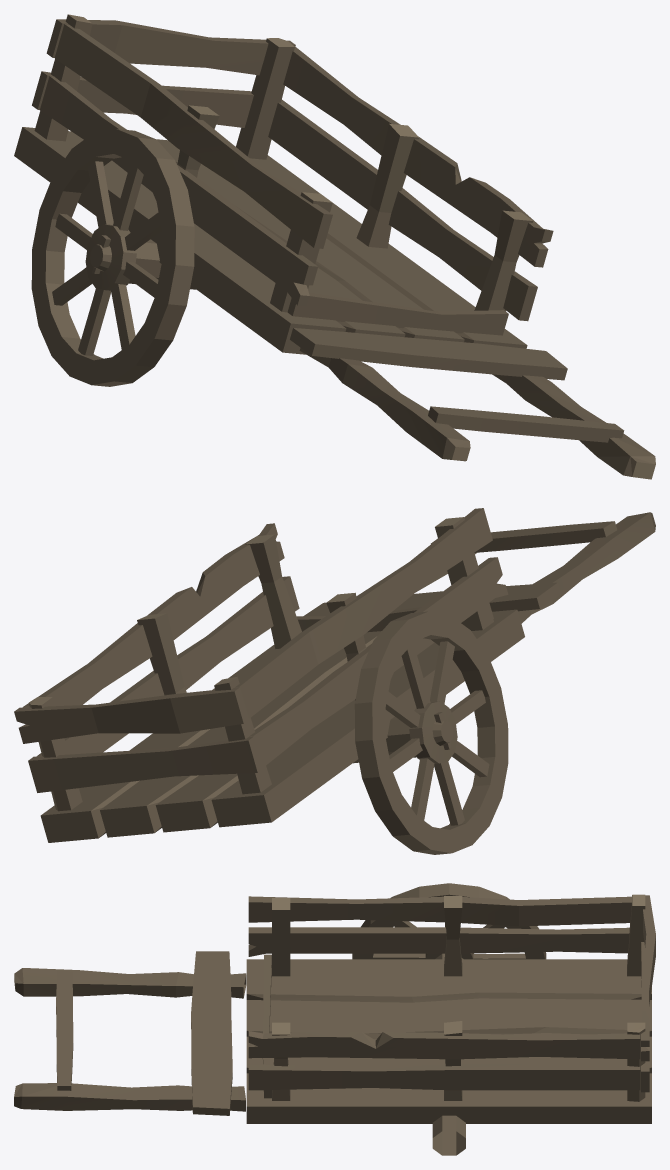
The model's file is SM_Env_Cart_Broken_01.obj.
3 renders of one model, top to bottom at view 1: azimuth 30°, elevation 25°; view 2: azimuth 150°, elevation 25°; view 3: azimuth 270°, elevation 25°, orthographic. The views are drawn at different scales.
Visible parts, largest first — view 1: SM_Veh_Cart_01_0; view 2: SM_Veh_Cart_01_0; view 3: SM_Veh_Cart_01_0.
Part boxes in pixels (x1,y1,x2,y2): SM_Veh_Cart_01_0: (14,14,655,479); SM_Veh_Cart_01_0: (14,508,655,854); SM_Veh_Cart_01_0: (14,883,655,1155).
Size of the model in its own units: 1.52 by 1.01 by 3.16.
